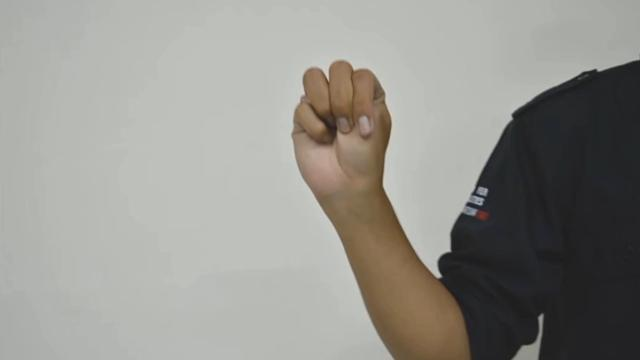M: (290, 60, 392, 195)
